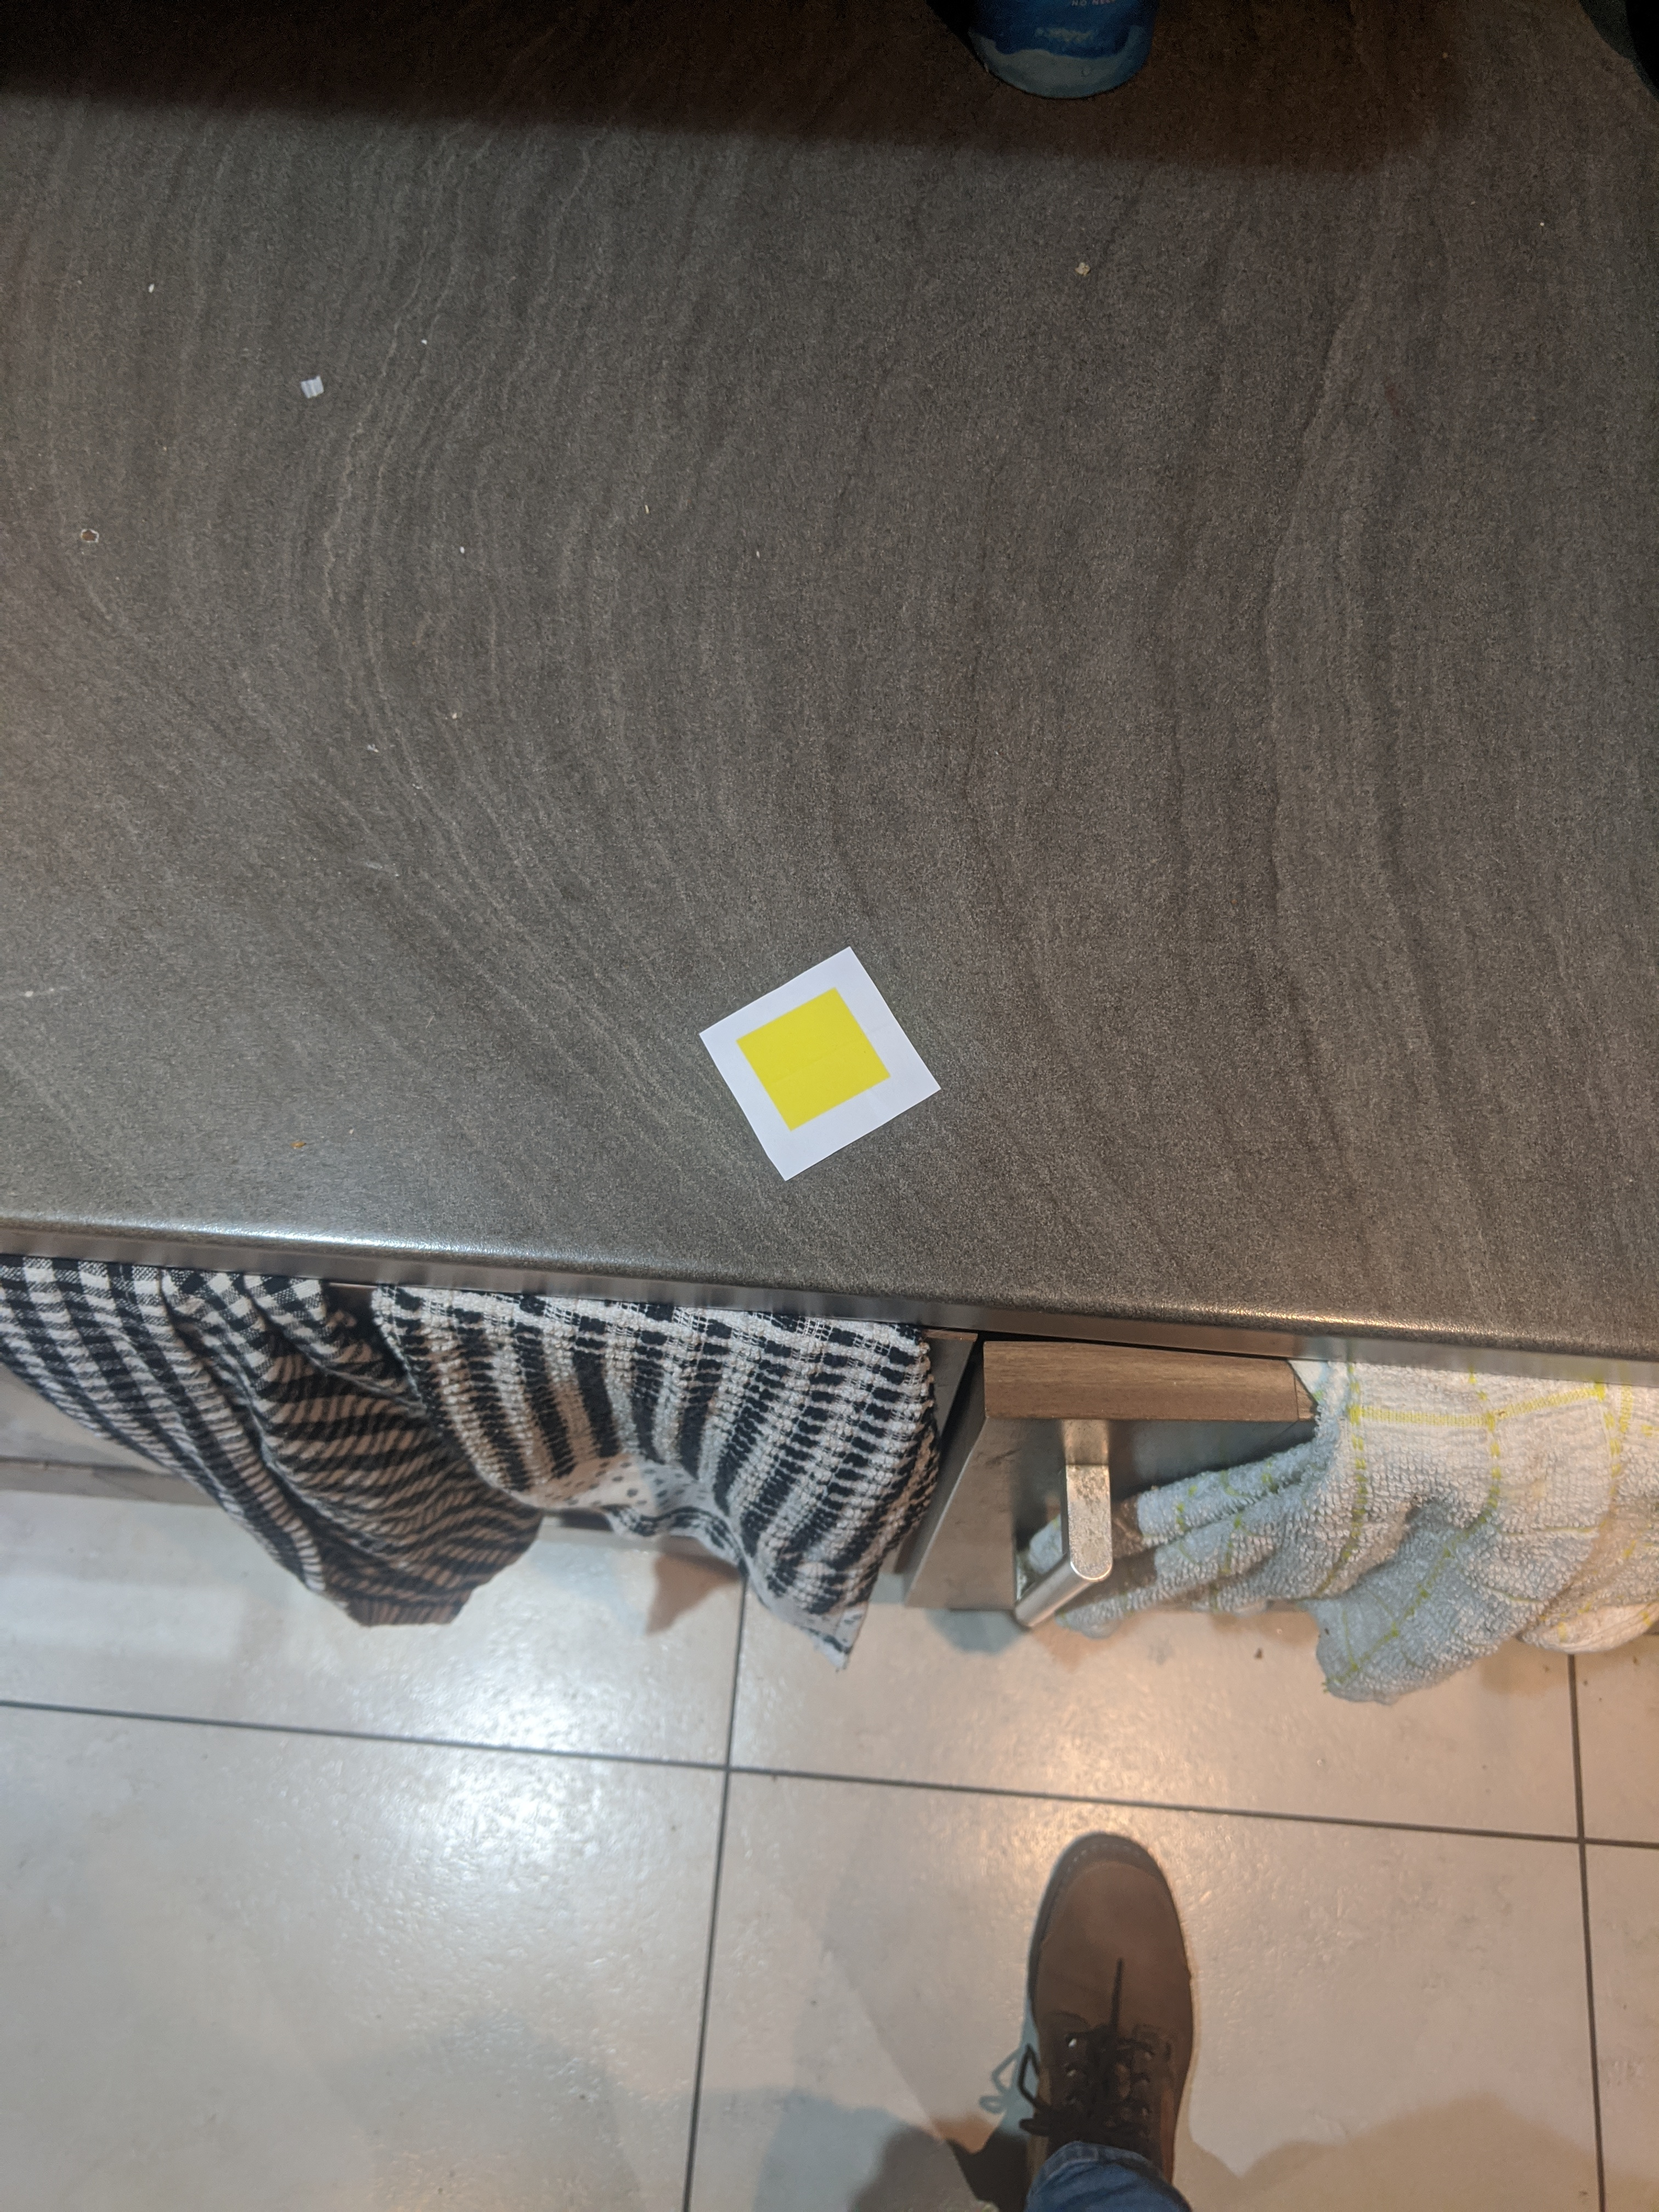yellow marker: (704, 942, 948, 1191)
